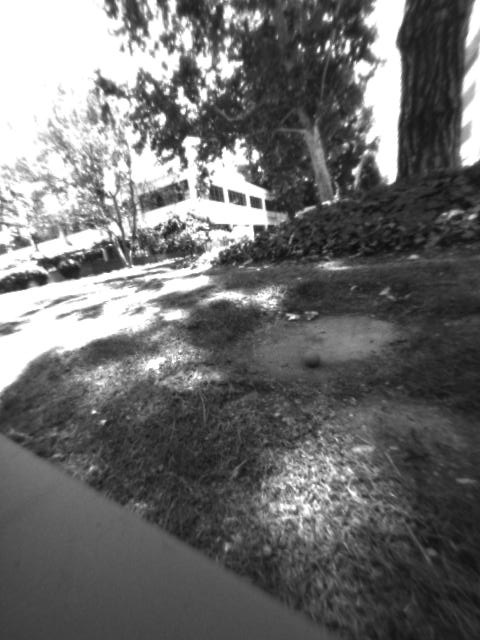dogtoy: (298, 342, 329, 374)
